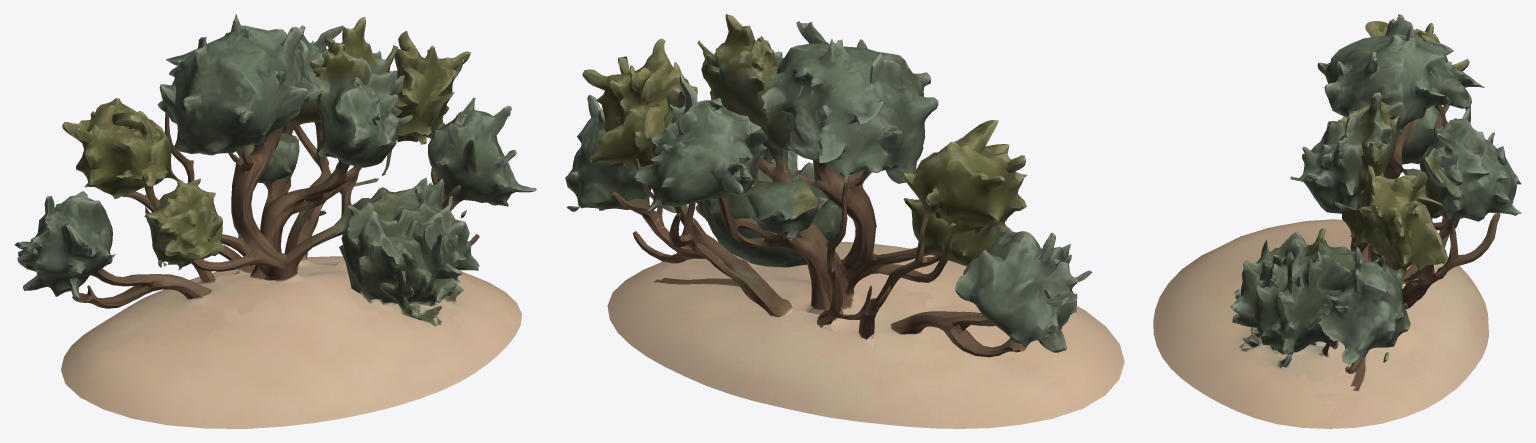
File: tidewake_dune_shrub_cluster.glb
3 views of the same model, side by side, from view 1: azimuth 30°, elevation 25°; view 2: azimuth 150°, elevation 25°; view 3: azimuth 270°, elevation 25° (orthographic). The views are drawn at different scales.
Visible parts, largest first — view 1: Mesh_0; view 2: Mesh_0; view 3: Mesh_0.
Boxes of the visible parts, x1=… form: Mesh_0: x1=14, y1=14, x2=536, y2=428; Mesh_0: x1=565, y1=14, x2=1124, y2=428; Mesh_0: x1=1153, y1=14, x2=1521, y2=428.
Size of the model in its own units: 1.85 by 1.1 by 1.24.
1 material, 1 textured.
